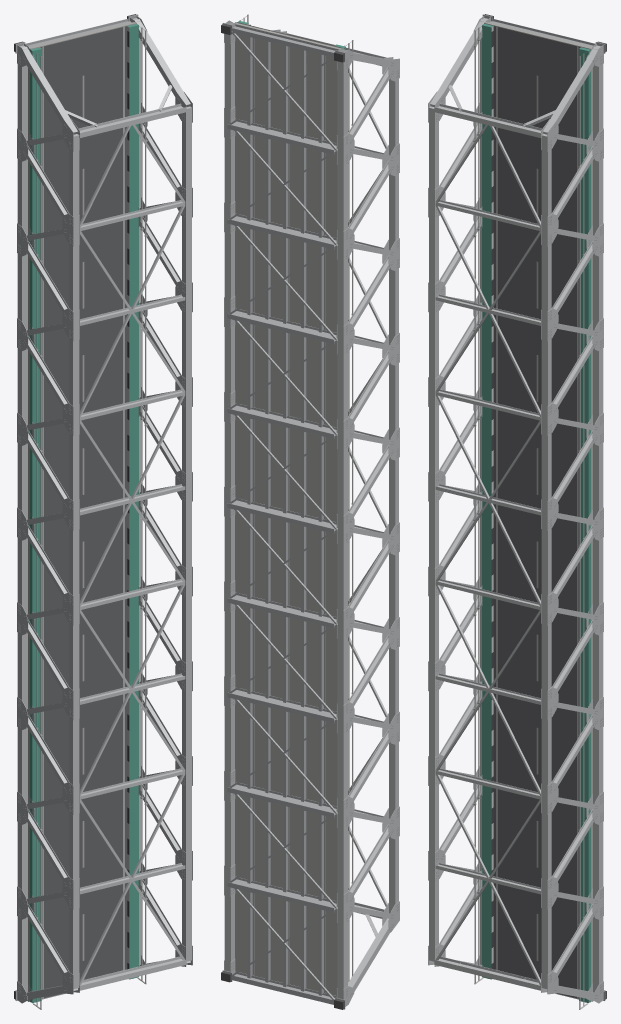
The picture shows the model from 3 angles, left to right: view 1: azimuth 30°, elevation 25°; view 2: azimuth 150°, elevation 25°; view 3: azimuth 330°, elevation 25°; orthographic projection.
Parts seen in each view (by area): view 1: B3_baja, B3_aspal, B3_kerb, B3_merah_lantai, B3_marka_putih_lantai, B3_beton, B3_marka_kuning_lantai, B3_putih, B3_baut, B3_hitam, B3_baja_bawah; view 2: B3_beton, B3_baja_bawah, B3_baja, B3_merah_lantai, B3_baut, B3_bantalan; view 3: B3_baja, B3_aspal, B3_kerb, B3_merah_lantai, B3_marka_putih_lantai, B3_beton, B3_marka_kuning_lantai, B3_putih, B3_baut, B3_hitam, B3_baja_bawah.
Part boxes in pixels (x1,y1,x2,y2): B3_baja: (17,16,192,1003); B3_aspal: (40,26,127,998); B3_kerb: (30,23,138,1002); B3_merah_lantai: (32,25,147,1009); B3_marka_putih_lantai: (42,26,124,999); B3_beton: (28,22,135,1000); B3_marka_kuning_lantai: (82,75,84,960); B3_putih: (127,26,129,963); B3_baut: (17,32,184,998); B3_hitam: (127,31,129,969); B3_baja_bawah: (15,14,138,1000); B3_beton: (235,23,340,995); B3_baja_bawah: (222,23,345,1009); B3_baja: (224,20,399,1006); B3_merah_lantai: (239,14,353,982); B3_baut: (231,36,398,998); B3_bantalan: (221,24,344,1009); B3_baja: (428,16,603,1003); B3_aspal: (493,26,580,998); B3_kerb: (482,23,590,1002); B3_merah_lantai: (473,25,588,1009); B3_marka_putih_lantai: (496,26,578,999); B3_beton: (485,22,592,991); B3_marka_kuning_lantai: (536,75,538,960); B3_putih: (491,26,493,963); B3_baut: (436,32,603,998); B3_hitam: (491,31,493,969); B3_baja_bawah: (482,14,605,1000).
Size of the model in its own units: 8.24 by 61.6 by 6.95.
